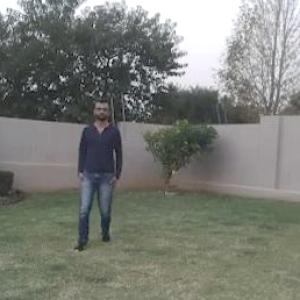follow: (78, 99, 119, 237)
